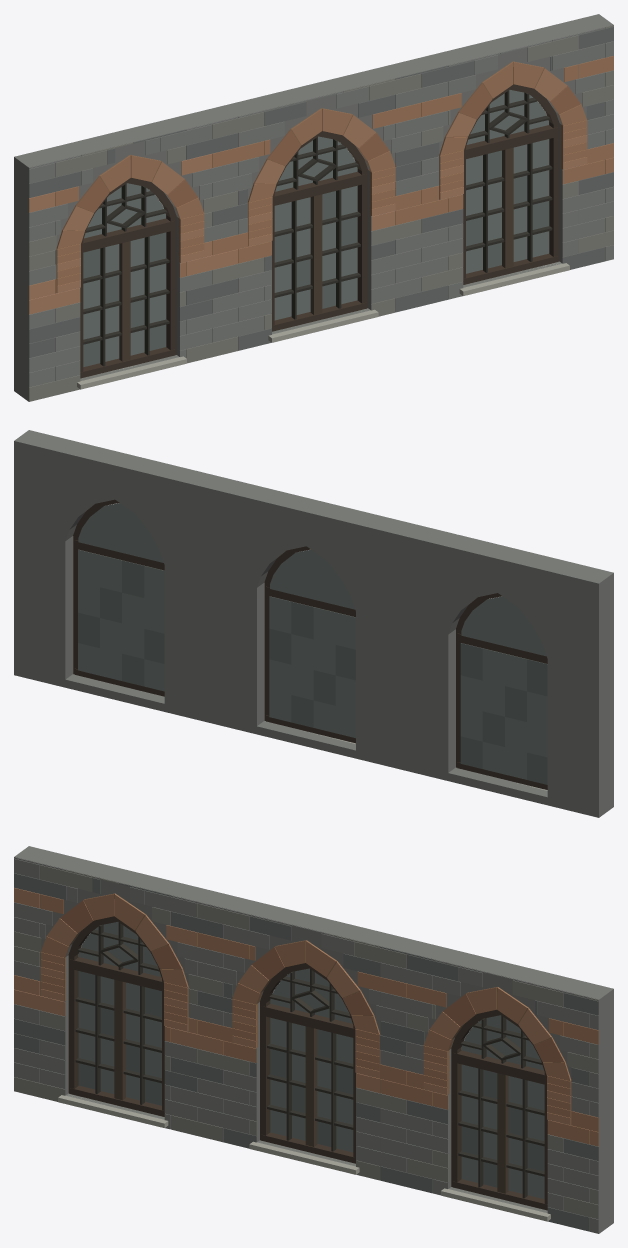
Rendered from pudong-sanlin-academy-east-triple-arched-windows-lod.glb.
3 views of the same model, one above another, from view 1: azimuth 30°, elevation 25°; view 2: azimuth 150°, elevation 25°; view 3: azimuth 330°, elevation 25° (orthographic).
Parts seen in each view (by area): view 1: 三林书院筠修精舍东墙三联红砖拱窗; view 2: 三林书院筠修精舍东墙三联红砖拱窗; view 3: 三林书院筠修精舍东墙三联红砖拱窗.
Part boxes in pixels (bbox=[...]): 三林书院筠修精舍东墙三联红砖拱窗: bbox=[14, 14, 613, 401]; 三林书院筠修精舍东墙三联红砖拱窗: bbox=[14, 430, 613, 817]; 三林书院筠修精舍东墙三联红砖拱窗: bbox=[14, 846, 613, 1233].
Size of the model in its own units: 6.48 by 2.48 by 0.36.
